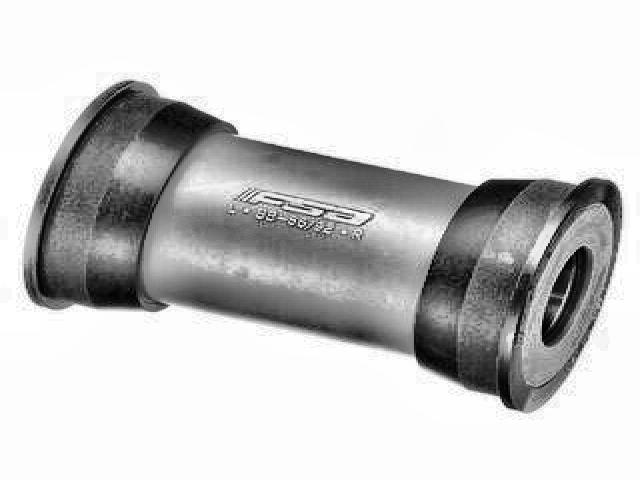bottom_bracket: (18, 76, 627, 416)
